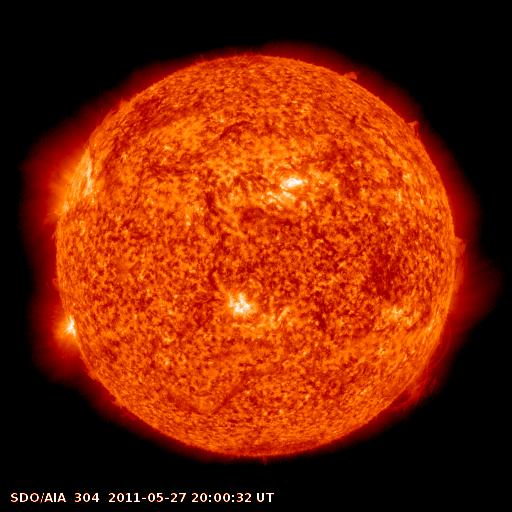prominence: (378, 315, 459, 420), (85, 94, 138, 146), (442, 229, 480, 296), (397, 109, 437, 147), (333, 60, 365, 90)
